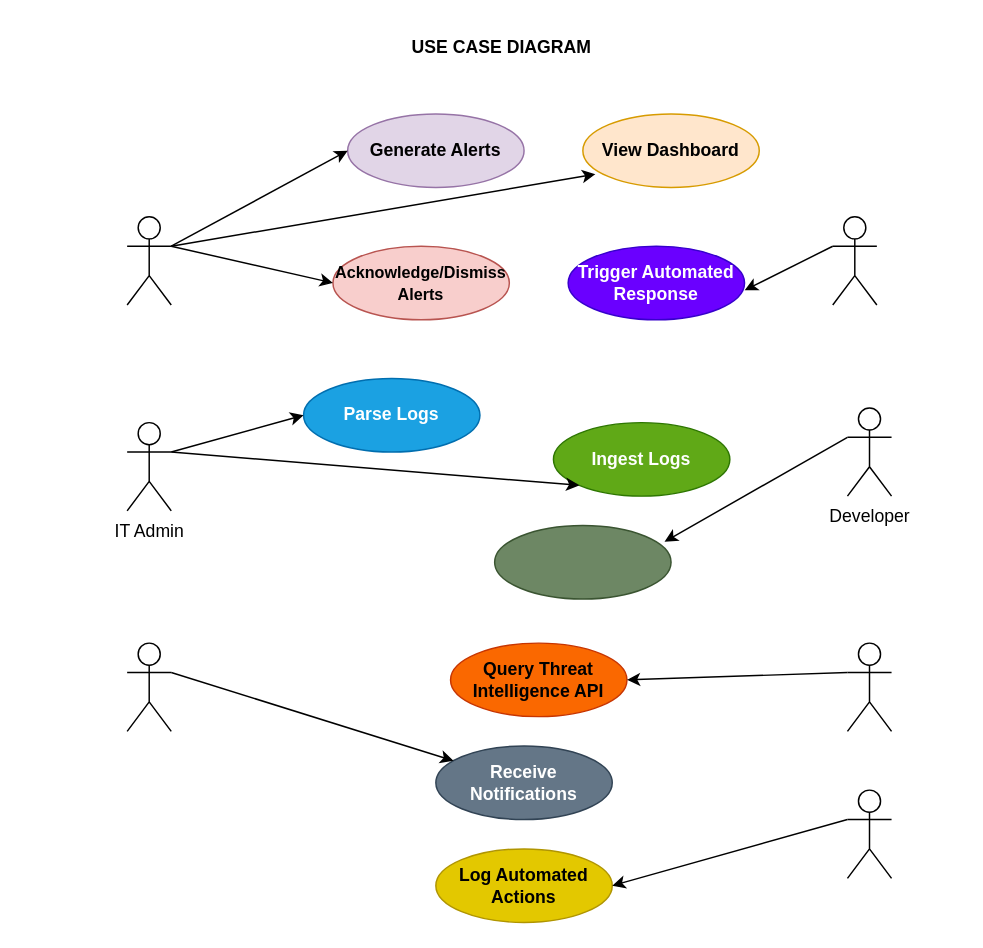
The diagram is 983 pixels wide and 948 high, and some of its shapes have lost their labels. Here are the shapes that lost their labels. From the top down, the box of each, then its label:
(126, 215, 171, 305): Security Analyst
(831, 215, 877, 305): Incident Responder
(493, 524, 671, 599): Apply Detection Rules
(126, 642, 171, 731): Enterprise User(SOC Manager)
(846, 642, 892, 731): Threat Intelligence API
(846, 789, 892, 878): System
